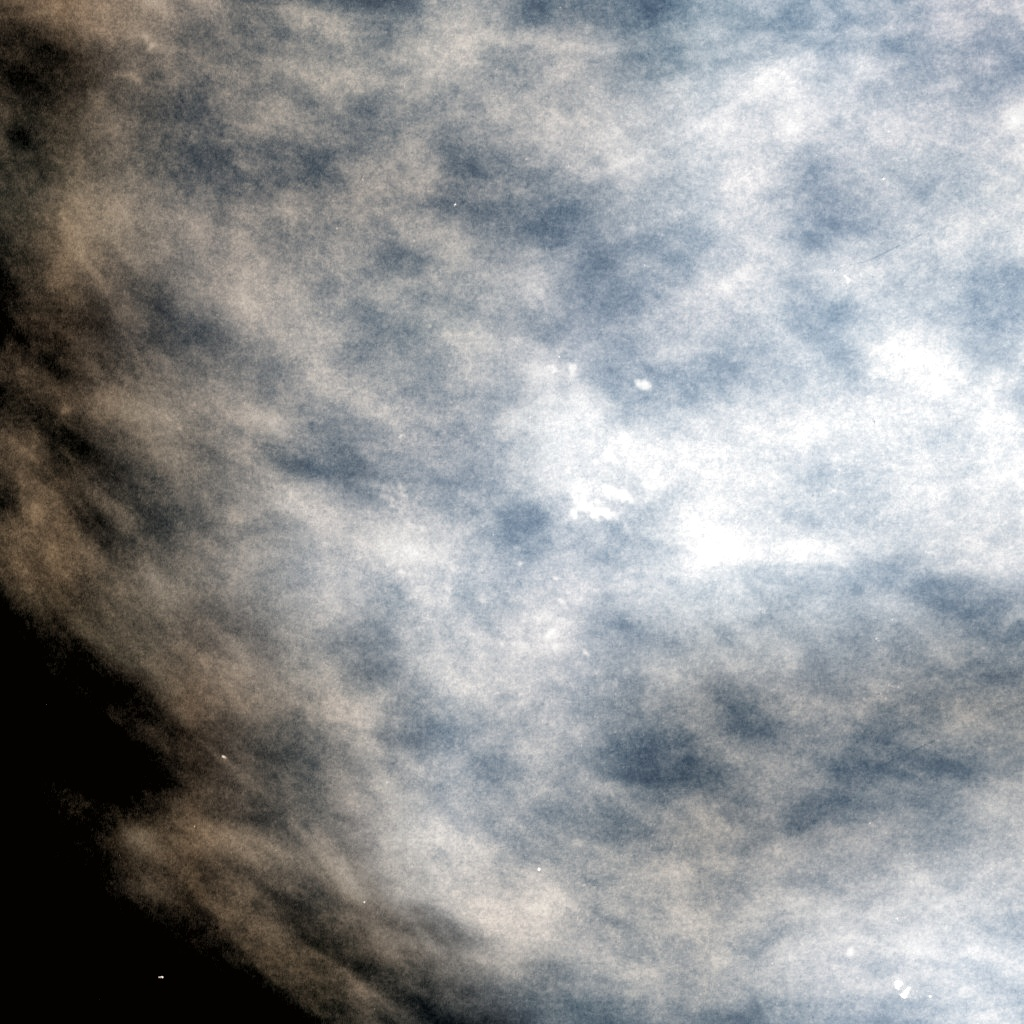tumor: (324, 304, 700, 720)
